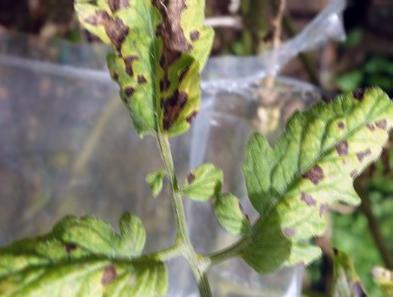Tomato Septoria leaf spot: (218, 79, 393, 276), (59, 0, 214, 143), (0, 209, 176, 297)
